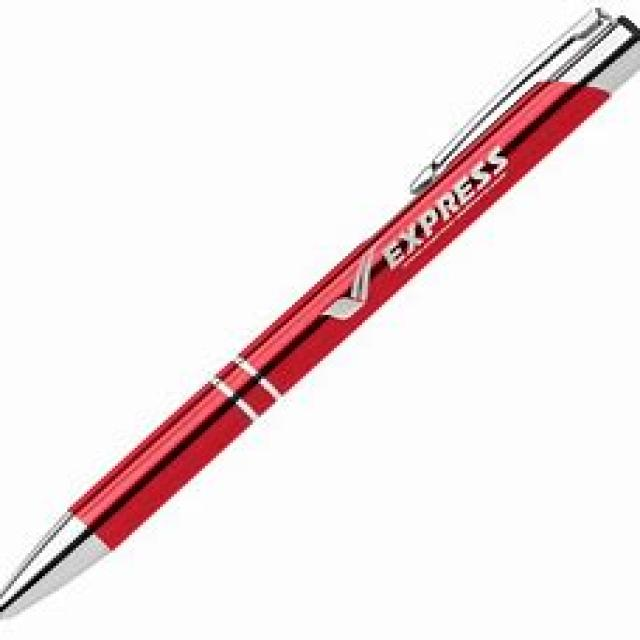pen: (0, 8, 638, 640)
